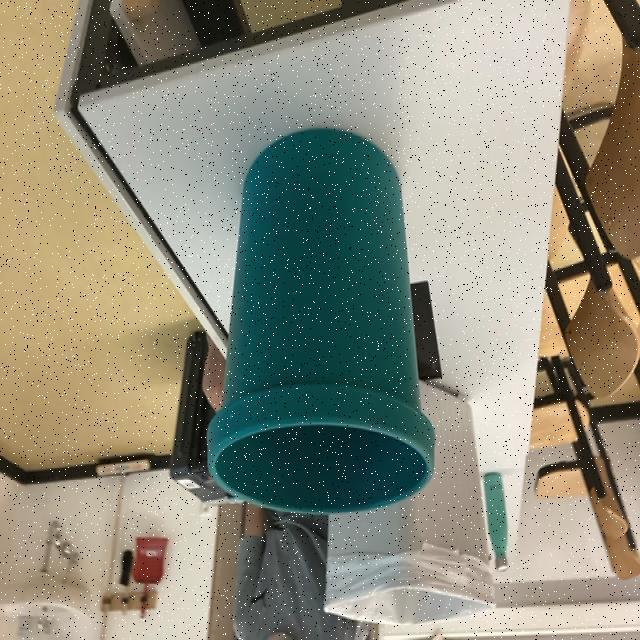garbage container: (199, 118, 440, 533), (314, 397, 495, 626)
